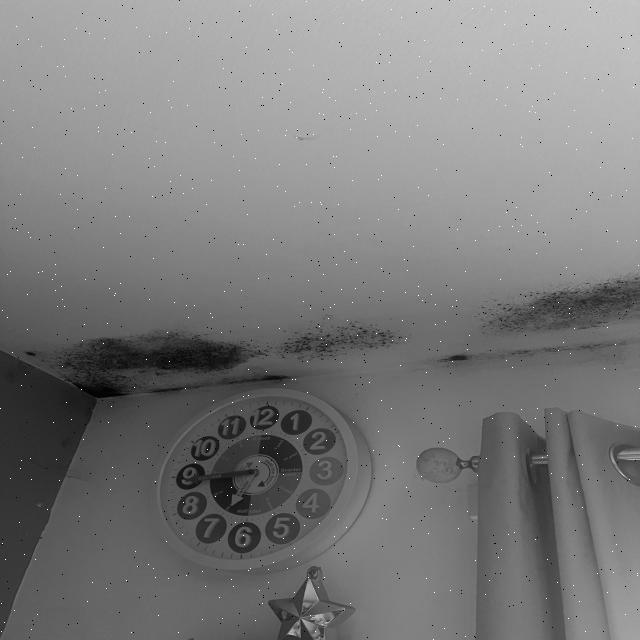stain marks: (429, 242, 640, 380), (9, 319, 302, 404), (273, 302, 411, 389)
